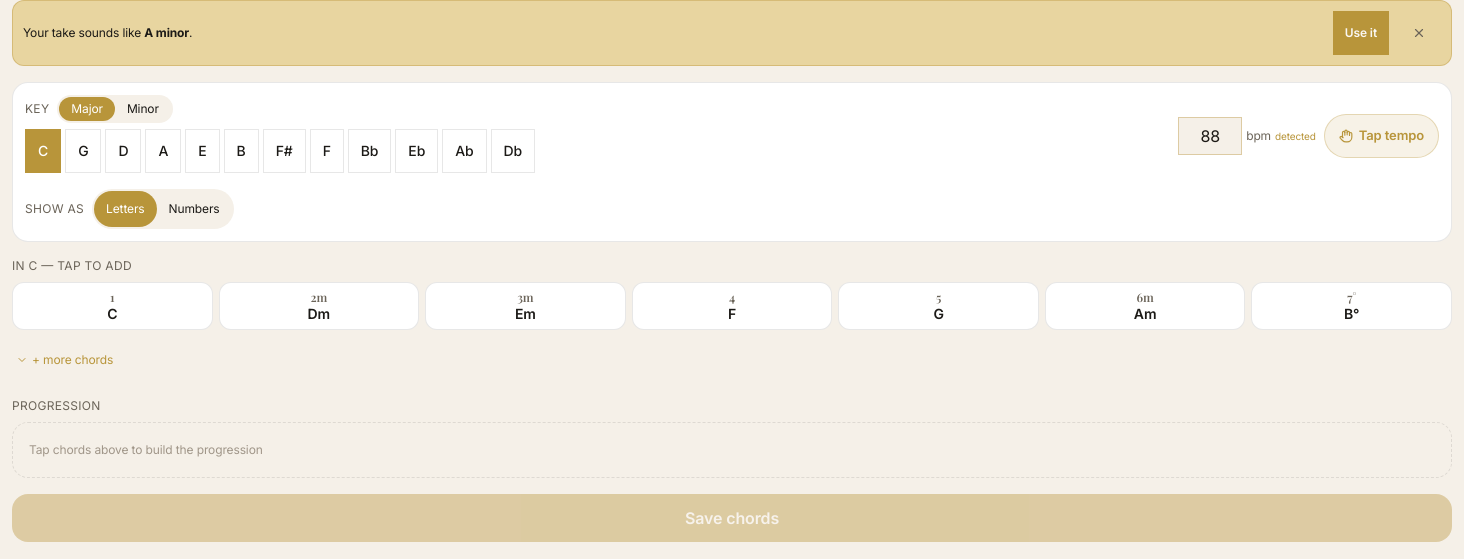
ChordPicker — F13 confirm-or-change UX › dismissing the hint keeps the user's values untouched
What coordinates should you click on to do the following:
click the button named "dismiss the detected key and tempo suggestion"
I would click on:
 (1419, 33)
Its box is 1397,11 -> 1441,55.
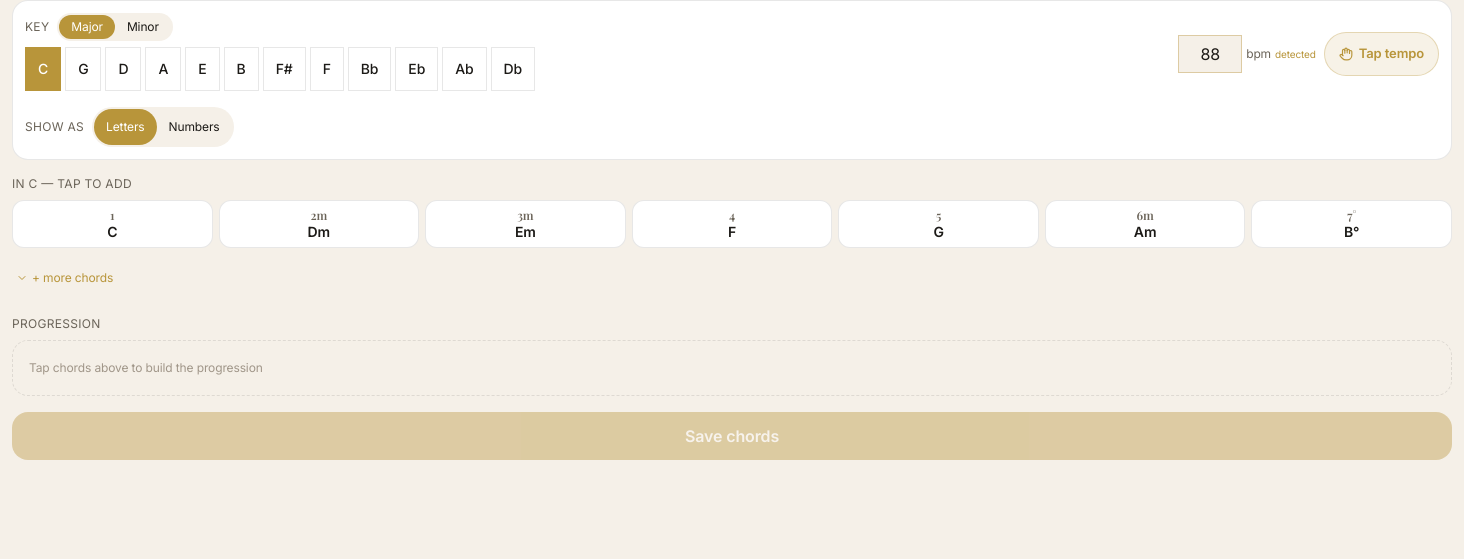
Check: the text "Your take sounds like" is gone
